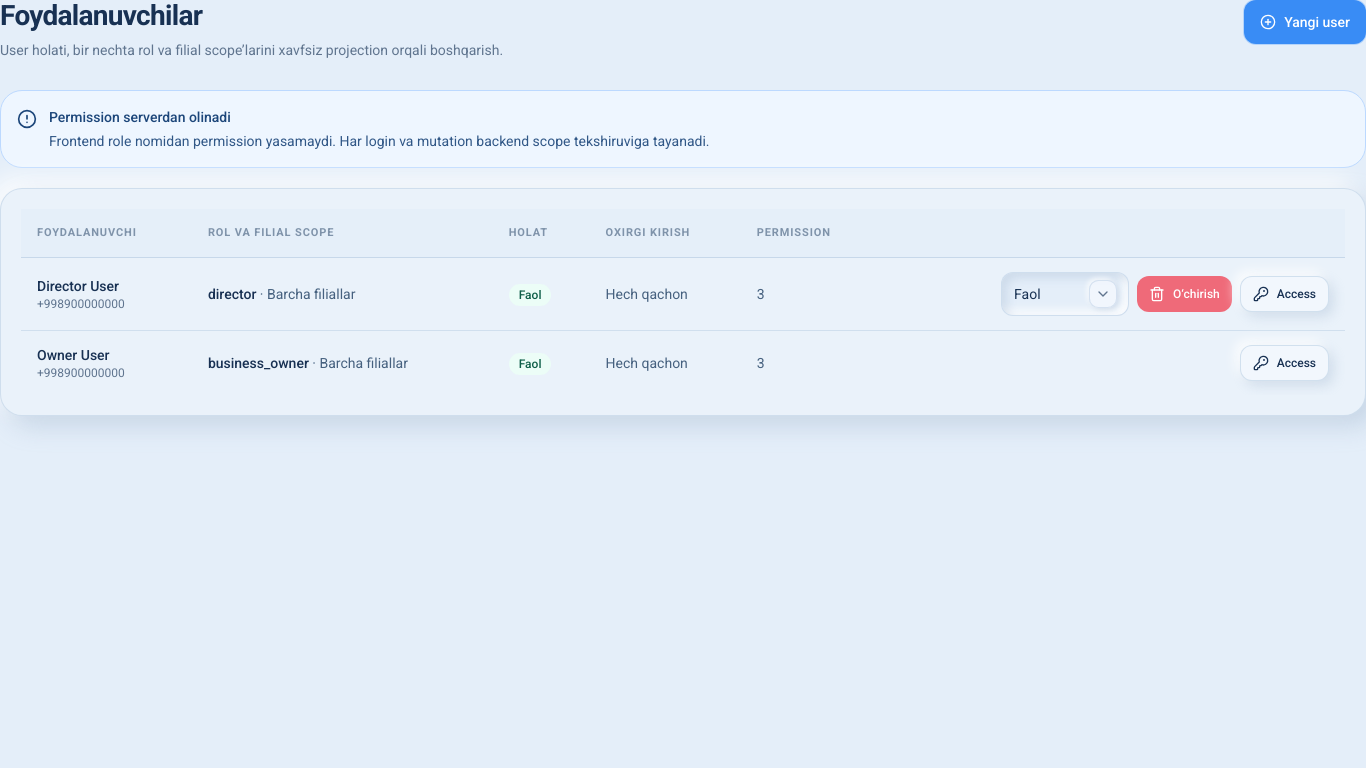
UsersPage Business Owner protection › lets the Business Owner open their own Access, for their password
Click the button "Access" in the row of "Owner User" at (1284, 363), box left=1240, top=345, right=1329, bottom=381
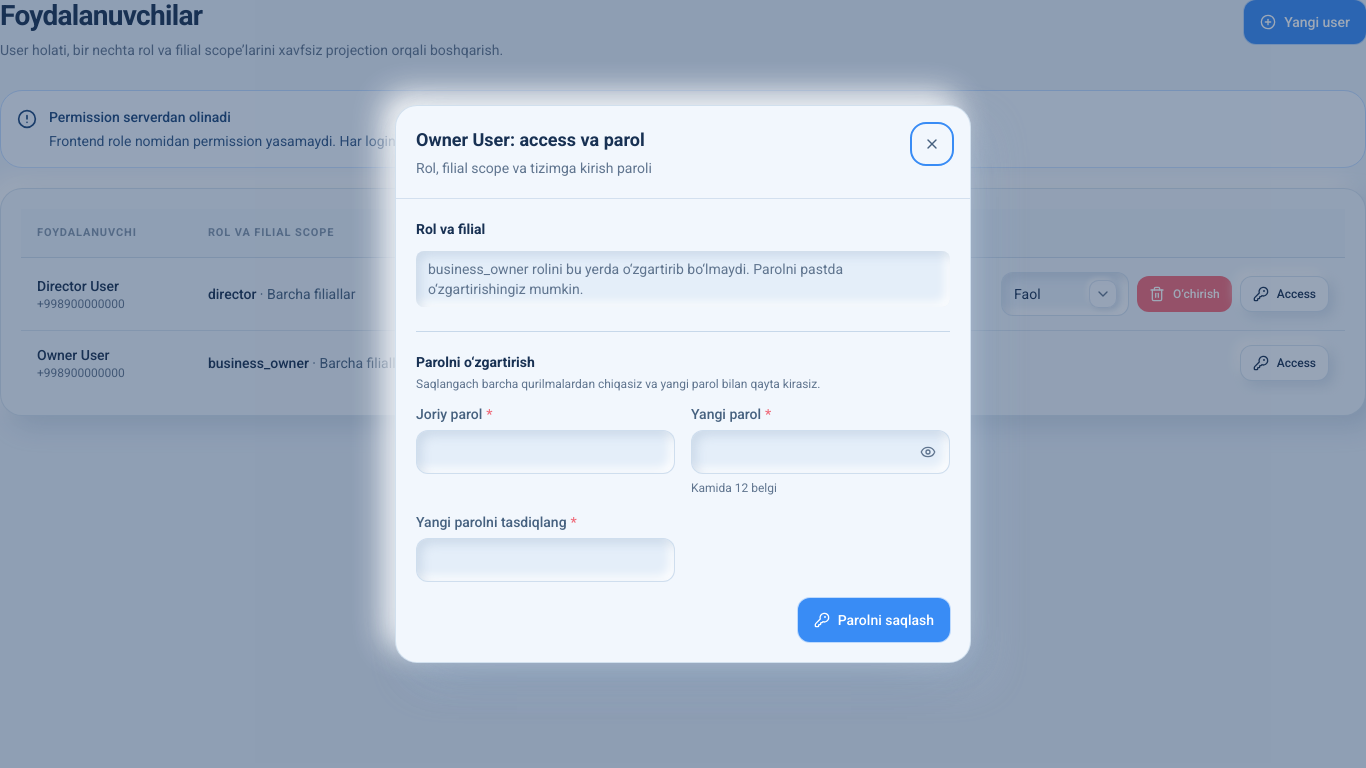
Result: the password field labelled "Joriy parol*" is shown at left=416, top=430, right=675, bottom=474
